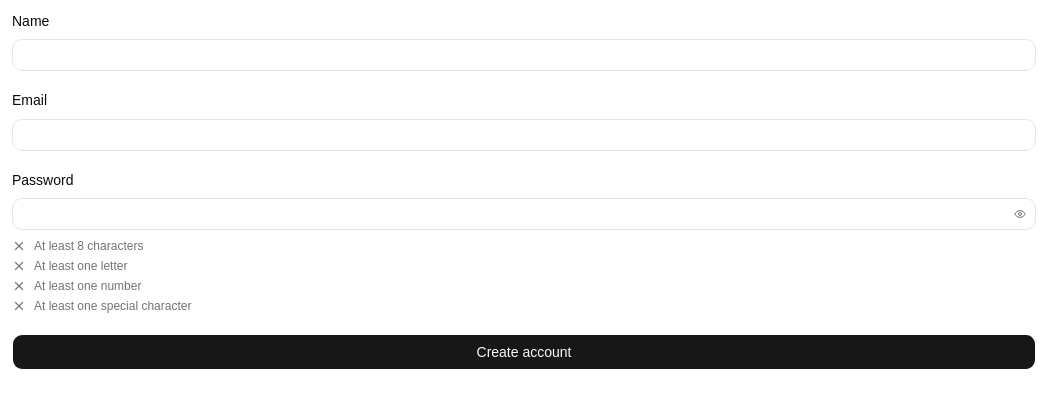
SignUpForm › shows 'Email already registered' on 409
This screenshot has width=1048, height=414.
In the field labelled "Name": (524, 55) [12,39,1036,71], type "Jane Doe"
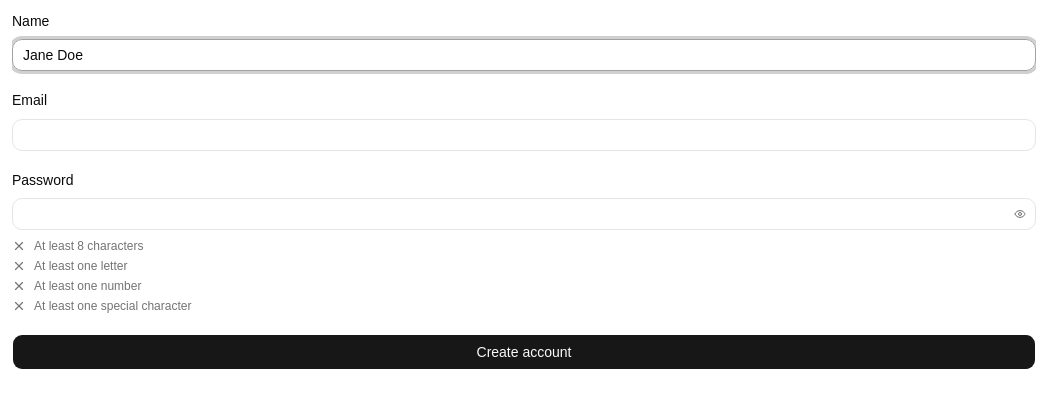
In the field labelled "Email": (524, 134) [12,118,1036,150], type "Jane@Example.com"
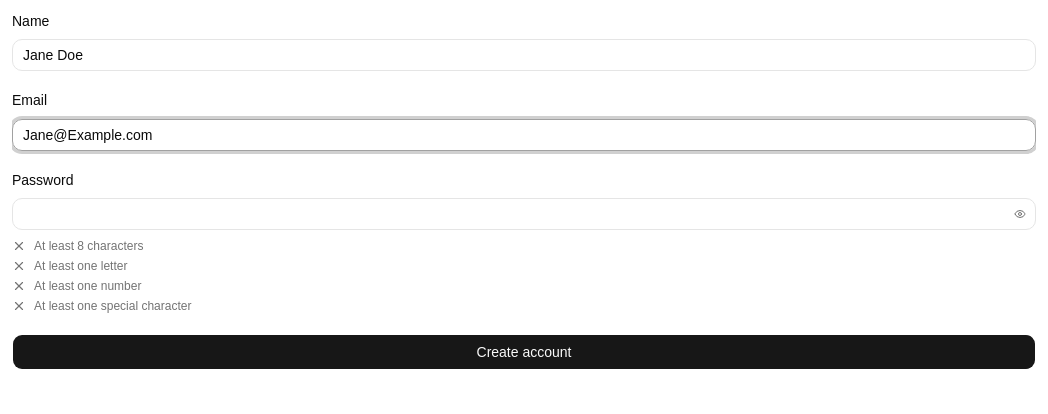
In the password field labelled "Password": (524, 214) [12,198,1036,230], type "Passw0rd!"
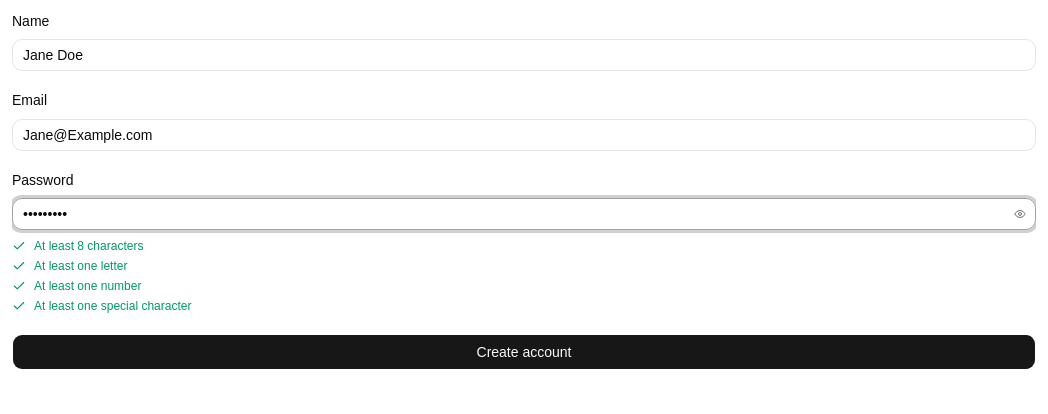
Click the button "Create account": (524, 352) [12,334,1036,370]
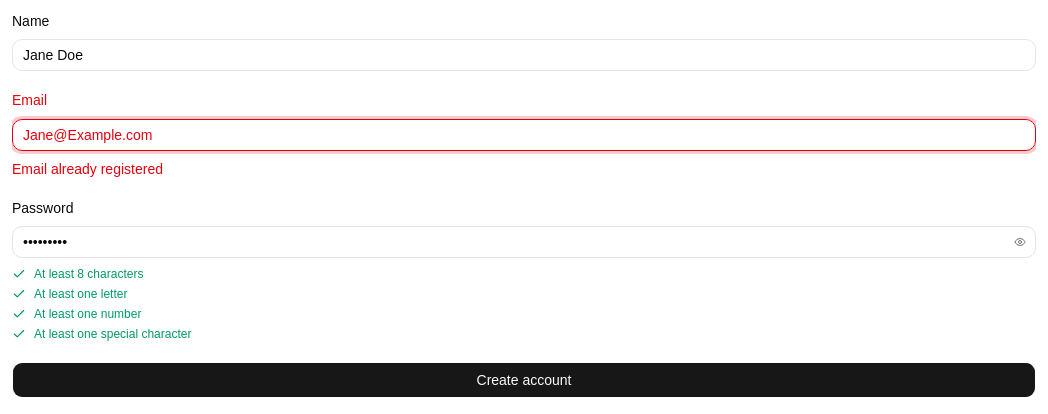
Expected: the text "Email already registered" is shown, [12,160,163,176]
